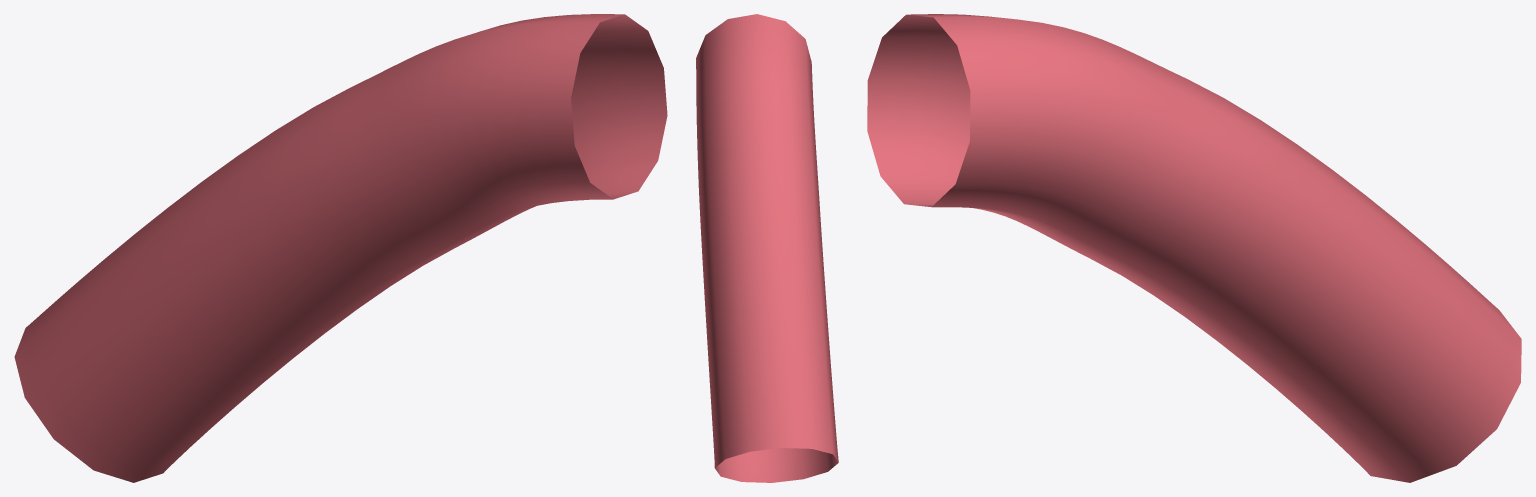
3 renders of one model, left to right at view 1: azimuth 30°, elevation 25°; view 2: azimuth 150°, elevation 25°; view 3: azimuth 270°, elevation 25°, orthographic. The views are drawn at different scales.
Parts seen in each view (by area): view 1: ZA_98ded10fa6298372; view 2: ZA_98ded10fa6298372; view 3: ZA_98ded10fa6298372.
Part boxes in pixels (x1,y1,x2,y2): ZA_98ded10fa6298372: (14,14,667,482); ZA_98ded10fa6298372: (696,14,838,482); ZA_98ded10fa6298372: (867,14,1521,482).
Size of the model in its own units: 0.00693 by 0.00842 by 0.00865.
